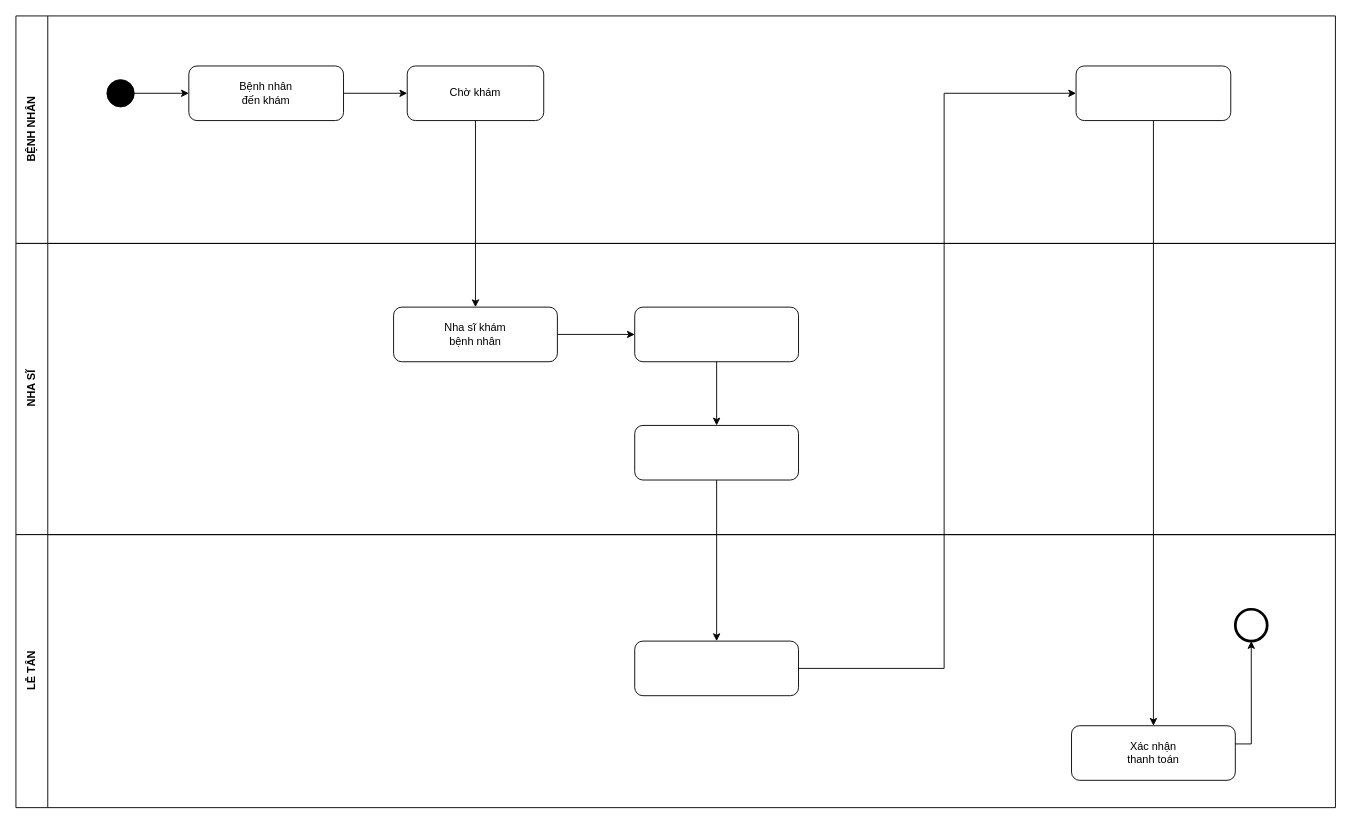
Image size: 1351x824. Some labels were removed from this diagram. Here are the shapes that lost their labels. From the top down, the centre of each, then its label:
the point at 1153,93: Thanh toán
the point at 716,334: Chẩn đoán tình trạng răng
the point at 716,452: Ghi hồ sơ điều trị
the point at 716,668: Tạo hóa đơn
